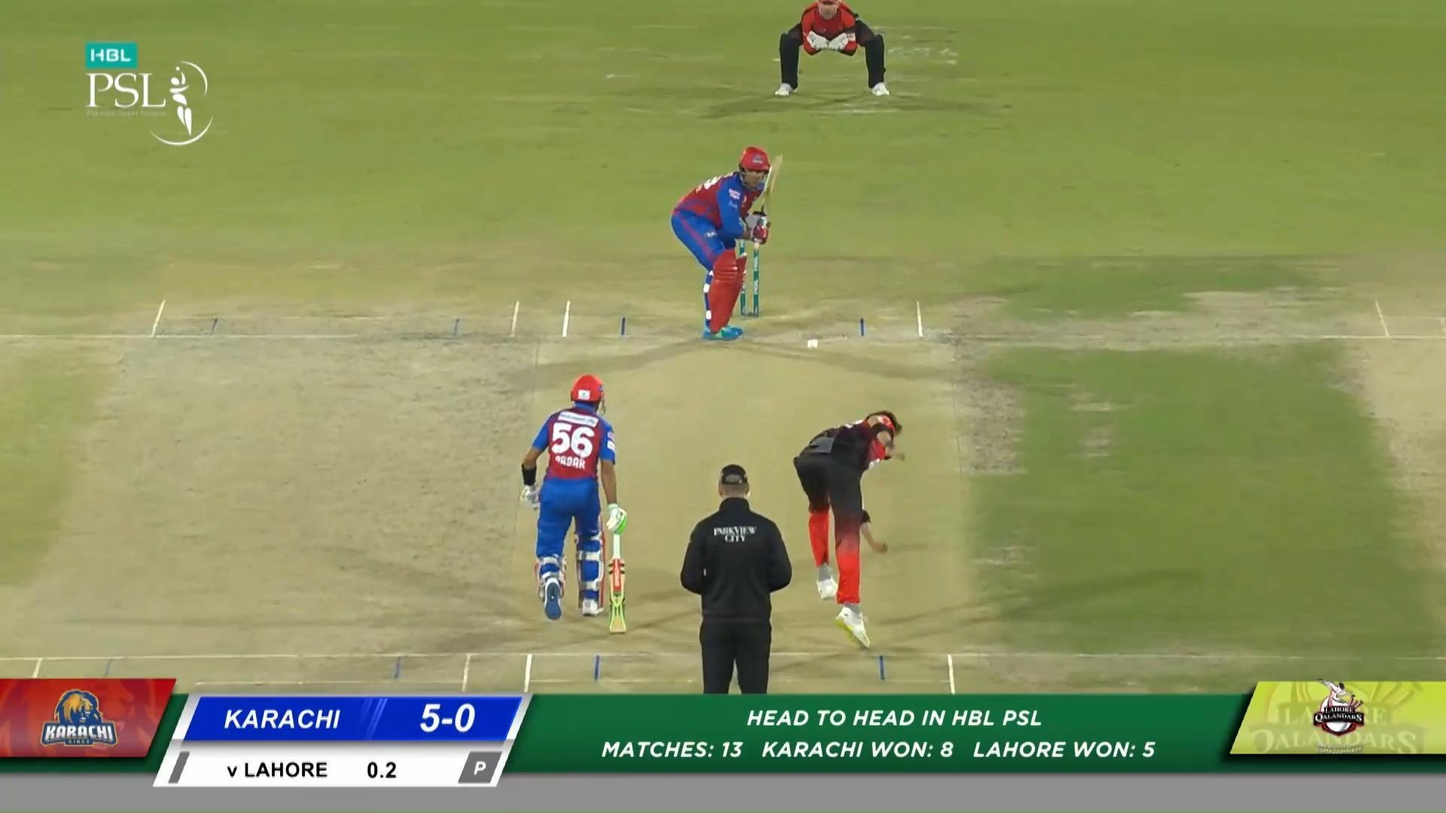BM 1: (670, 146, 783, 341)
BO: (793, 409, 903, 650)
